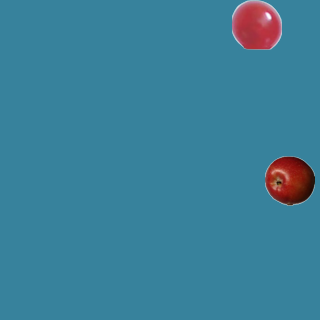Apple Braeburn: (264, 155, 314, 205)
Redcurrant: (231, 0, 281, 49)
